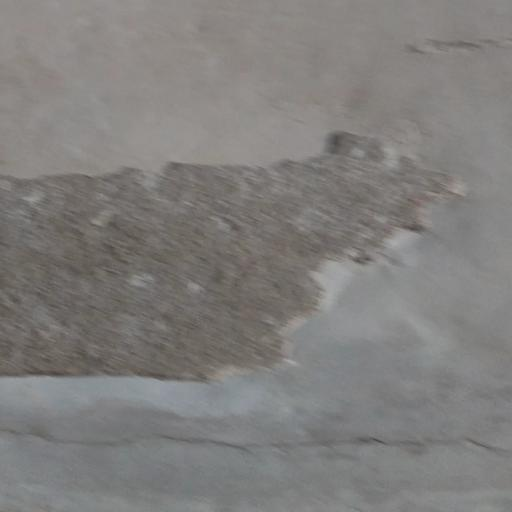peeling: (0, 117, 498, 394)
